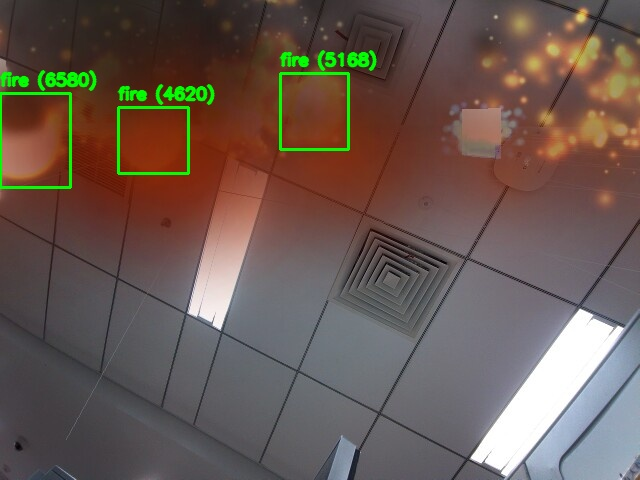fire: (0, 93, 70, 187), (280, 73, 348, 149), (118, 107, 188, 173)
